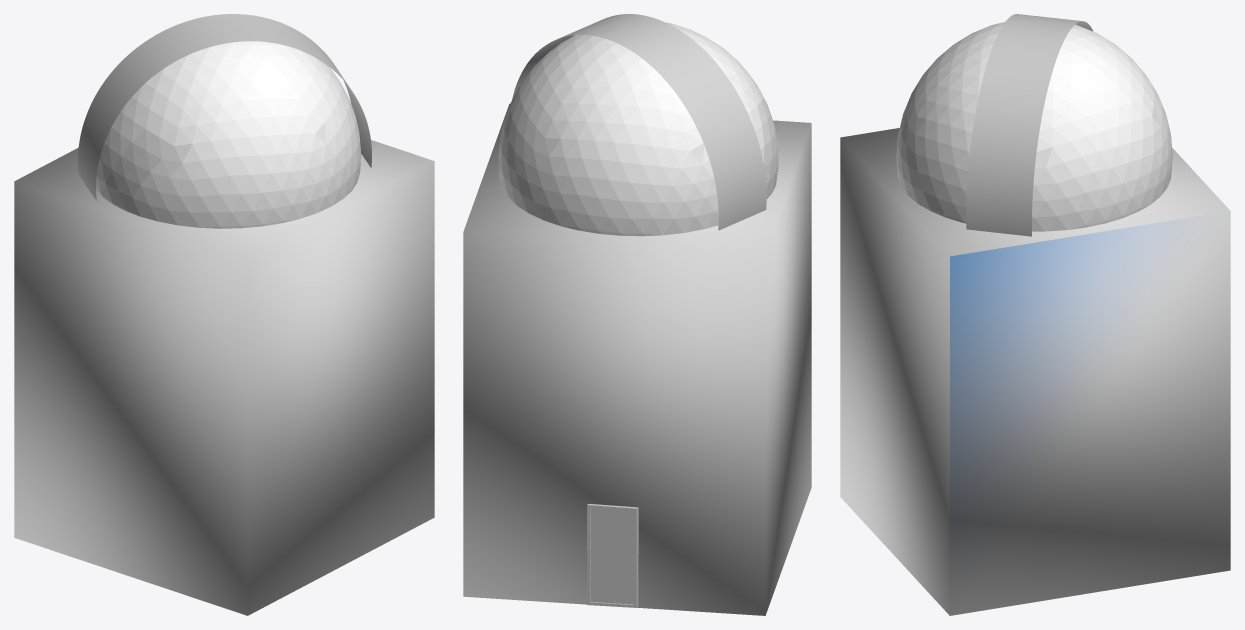
Rendered from observatory.fbx.
3 renders of one model, left to right at view 1: azimuth 30°, elevation 25°; view 2: azimuth 150°, elevation 25°; view 3: azimuth 270°, elevation 25°, orthographic. The views are drawn at different scales.
Parts seen in each view (by area): view 1: Untitled.003, Untitled, Untitled.001; view 2: Untitled.003, Untitled, Untitled.001, Door.001; view 3: Untitled.003, Untitled, Untitled.001.
Boxes of the visible parts, x1=… form: Untitled.003: x1=14, y1=140, x2=434, y2=615; Untitled: x1=96, y1=41, x2=360, y2=228; Untitled.001: x1=78, y1=14, x2=371, y2=200; Untitled.003: x1=463, y1=103, x2=811, y2=615; Untitled: x1=498, y1=22, x2=778, y2=236; Untitled.001: x1=512, y1=14, x2=766, y2=230; Door.001: x1=587, y1=504, x2=638, y2=607; Untitled.003: x1=840, y1=128, x2=1230, y2=615; Untitled: x1=896, y1=22, x2=1172, y2=231; Untitled.001: x1=966, y1=14, x2=1093, y2=236.
Bounding box in the file's own units: 370 × 528 × 370.
